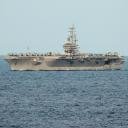Portanaves: (4, 23, 128, 73)
